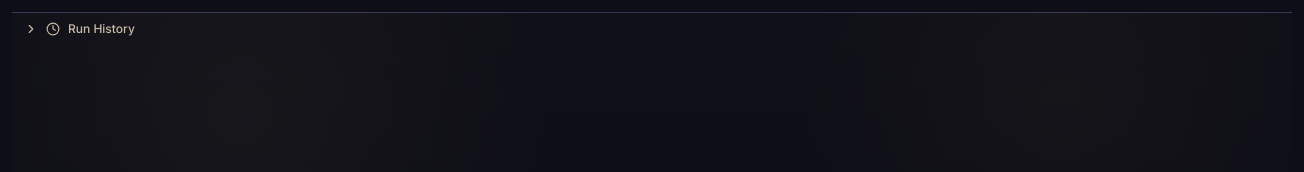
it: PipelineRunHistory › loads runs lazily when expanded and can be collapsed again
Click the button "Run History" at (101, 28), box [12,13,1292,45]
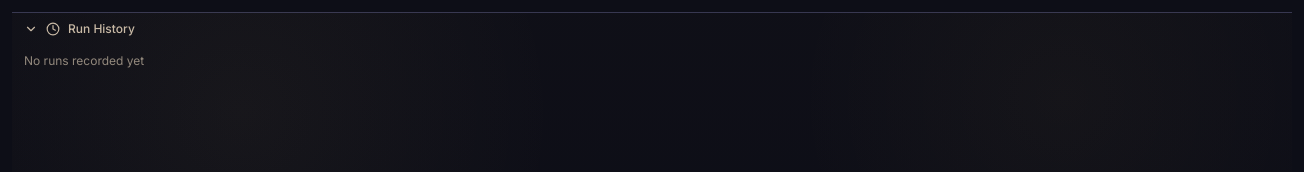
Result: the text "No runs recorded yet" is shown at [24,53,144,68]
Click the button "Run History" at (101, 28), box [12,13,1292,45]
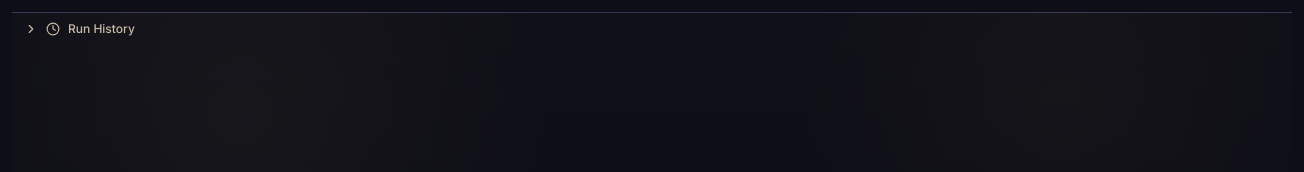
Result: the text "No runs recorded yet" is gone
